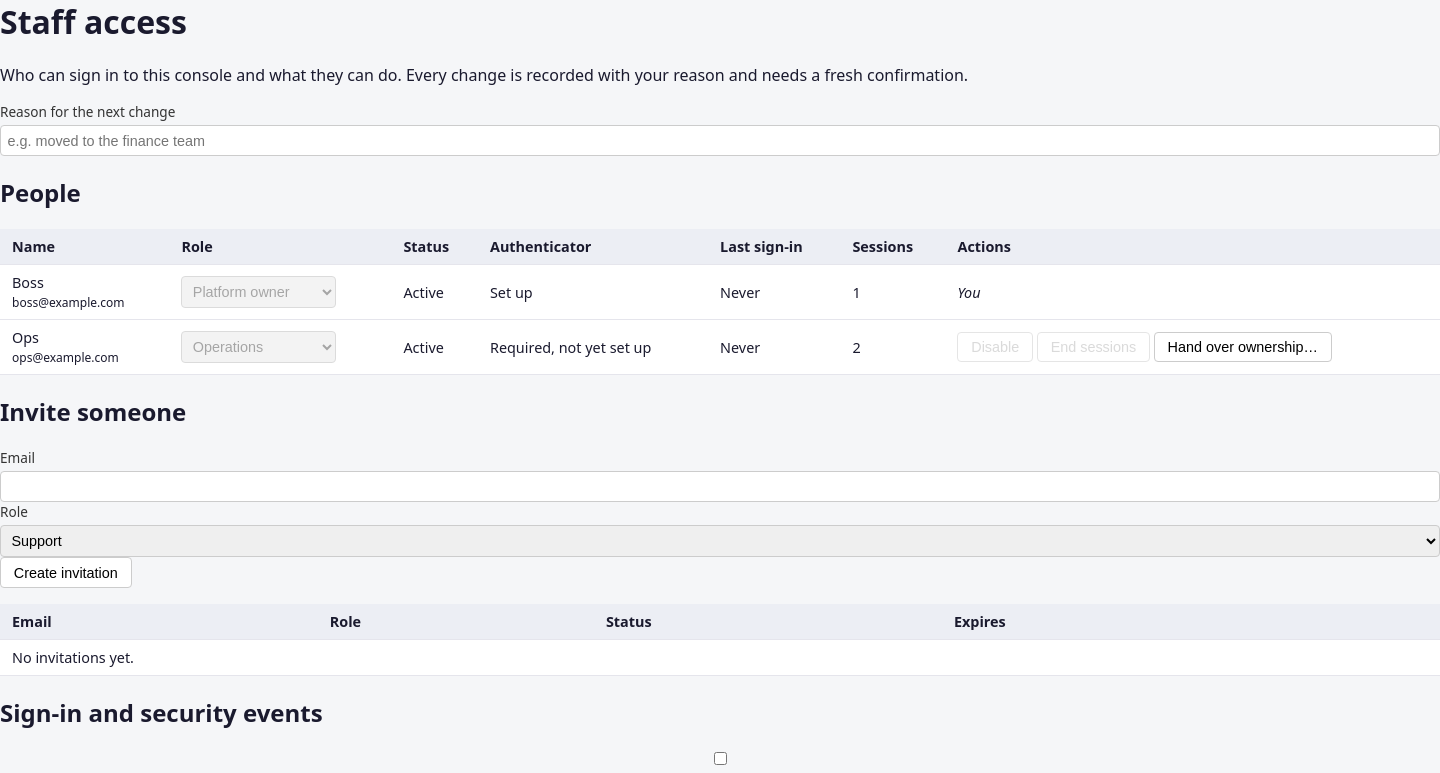
Test case: staff access page › shows an invitation link once, right after it is made
Type "new@example.com" into the field named "Invitation email" at (720, 486), box [0,471,1439,502]
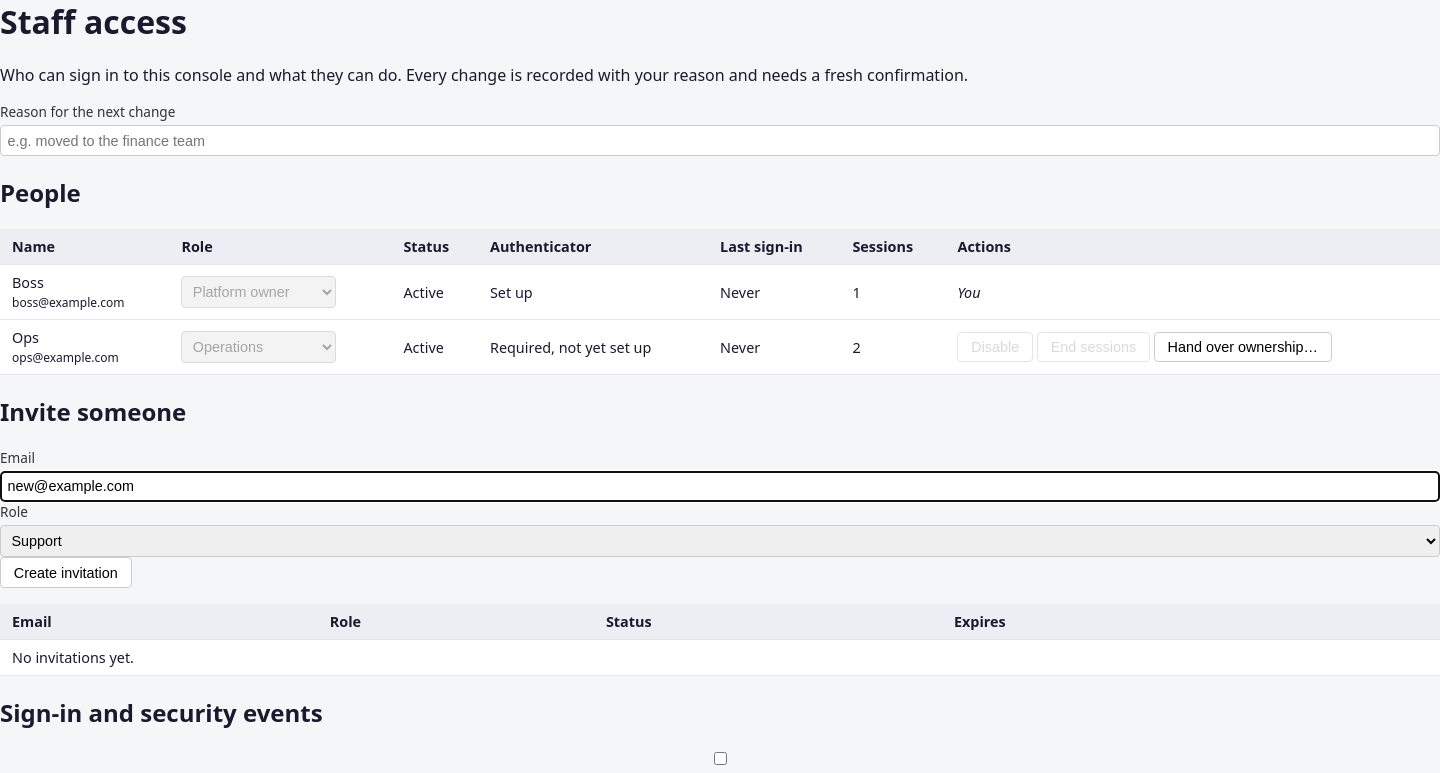
Click the button "Create invitation" at (66, 573), box [0,557,132,588]
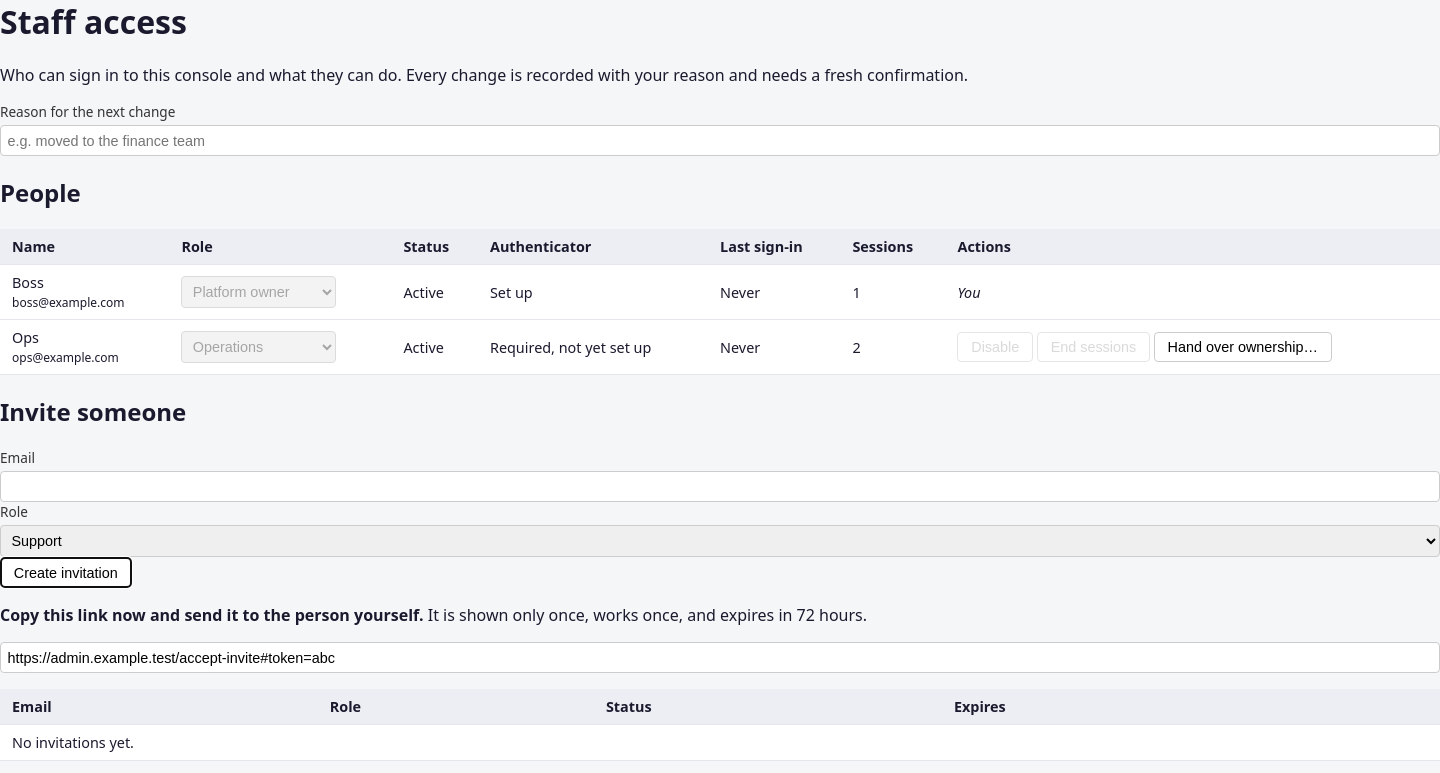
expect the field named "Invitation link" holds "https://admin.example.test/accept-invite#token=abc": met, box [0,642,1439,673]
expect the text "shown only once" is shown: met, box [424,604,867,626]
